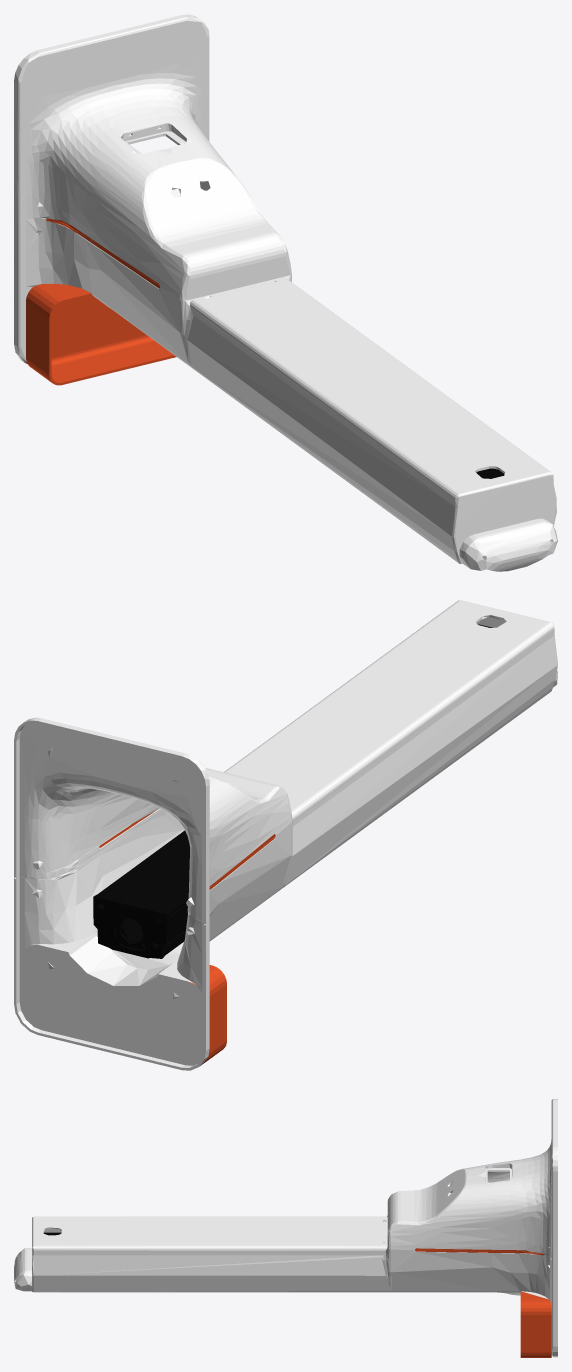
3 renders of one model, top to bottom at view 1: azimuth 30°, elevation 25°; view 2: azimuth 150°, elevation 25°; view 3: azimuth 270°, elevation 25°, orthographic. The views are drawn at different scales.
Parts seen in each view (by area): view 1: body_base_link; view 2: body_base_link; view 3: body_base_link.
Part boxes in pixels (<box>): body_base_link: <box>14,14,557,571</box>; body_base_link: <box>14,600,557,1070</box>; body_base_link: <box>14,1099,557,1357</box>.
Size of the model in its own units: 0.4 by 0.625 by 1.48.
